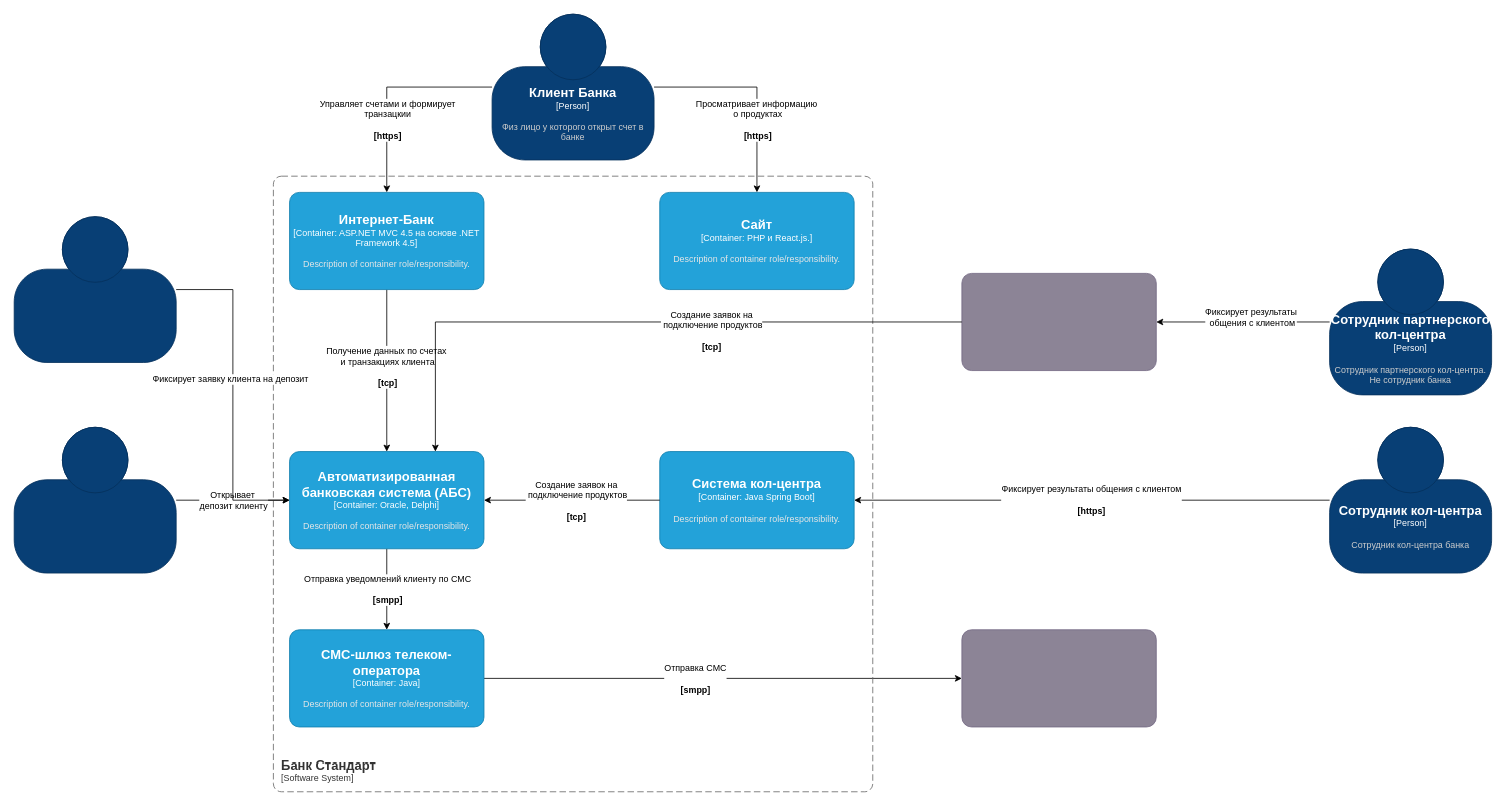
Some shapes in this 1506 by 806 pixel diagram are drawn without their labels. The shapes that lost their labels are listed below. From the top down, each one's centre as x and y in pixels, then its label:
At point 94,289: "Менеджер фронт-офиса [Person] Сотрудники, которые работают в отделениях банка".
At point 1058,322: "Система партнёрского кол-центра [Software System] Партнёрский кол-центр".
At point 94,499: "Менеджеры бэк-офиса [Person] Специалисты по кредитам и депозитам".
At point 1058,678: "Телеком-оператор [Software System] Description of external software system.".
